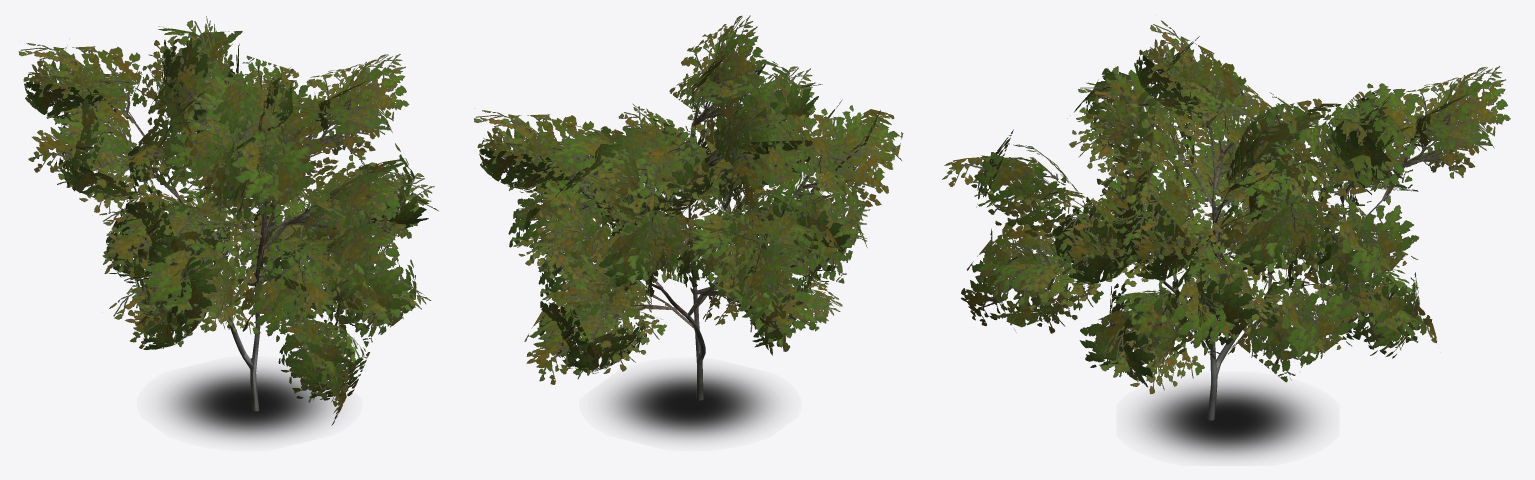
Rendered from shu3.gltf.
The picture shows the model from 3 angles, left to right: view 1: azimuth 30°, elevation 25°; view 2: azimuth 150°, elevation 25°; view 3: azimuth 270°, elevation 25°; orthographic projection. The views are drawn at different scales.
Visible parts, largest first — view 1: t1, Plane058, 对象002; view 2: t1, Plane058, 对象002; view 3: t1, Plane058, 对象002.
Part boxes in pixels (x1,y1,x2,y2): t1: (18, 16, 438, 425); Plane058: (162, 367, 337, 440); 对象002: (160, 160, 276, 411); t1: (474, 15, 903, 384); Plane058: (604, 368, 776, 440); 对象002: (590, 146, 718, 400); t1: (942, 20, 1510, 394); Plane058: (1136, 381, 1318, 458); 对象002: (1144, 156, 1390, 420).
Size of the model in its own units: 8772 by 9252 by 12501.
Materials: 3 (3 with a texture image).
